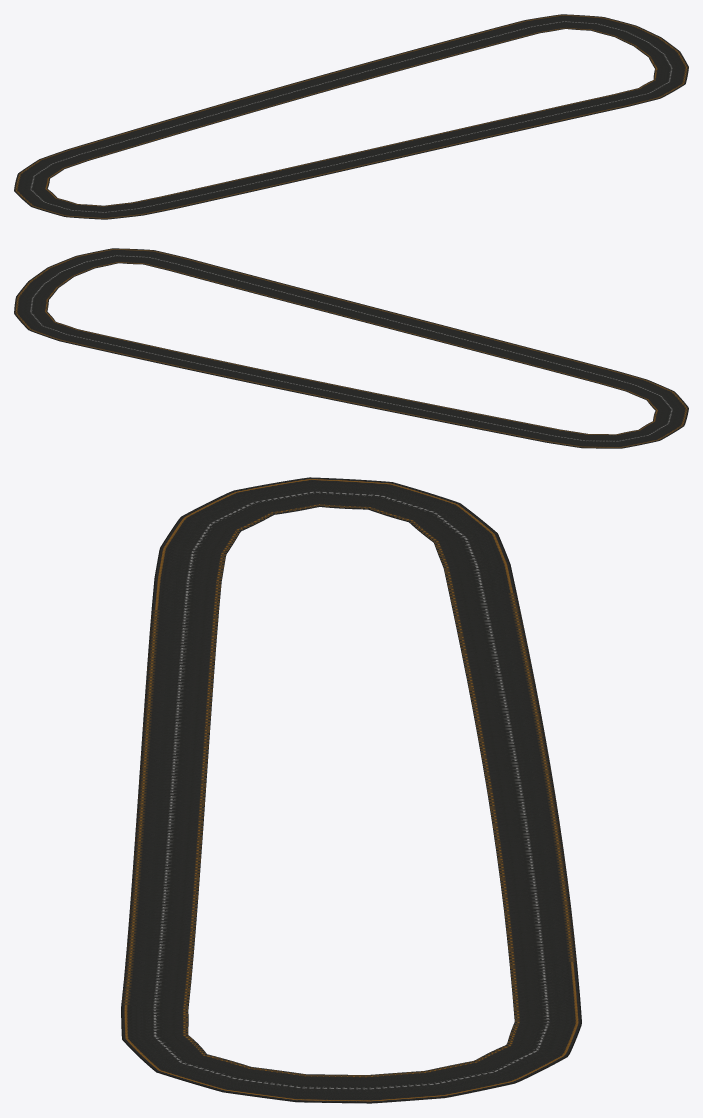
Rendered from easy_track.fbx.
3 views of the same model, one above another, from view 1: azimuth 30°, elevation 25°; view 2: azimuth 150°, elevation 25°; view 3: azimuth 270°, elevation 25° (orthographic). The views are drawn at different scales.
Visible parts, largest first — view 1: Cube; view 2: Cube; view 3: Cube.
Boxes of the visible parts, x1=… form: Cube: x1=14, y1=14, x2=688, y2=219; Cube: x1=14, y1=248, x2=688, y2=448; Cube: x1=121, y1=477, x2=581, y2=1103.
Bounding box in the file's own units: 43881 × 143 × 13674.
